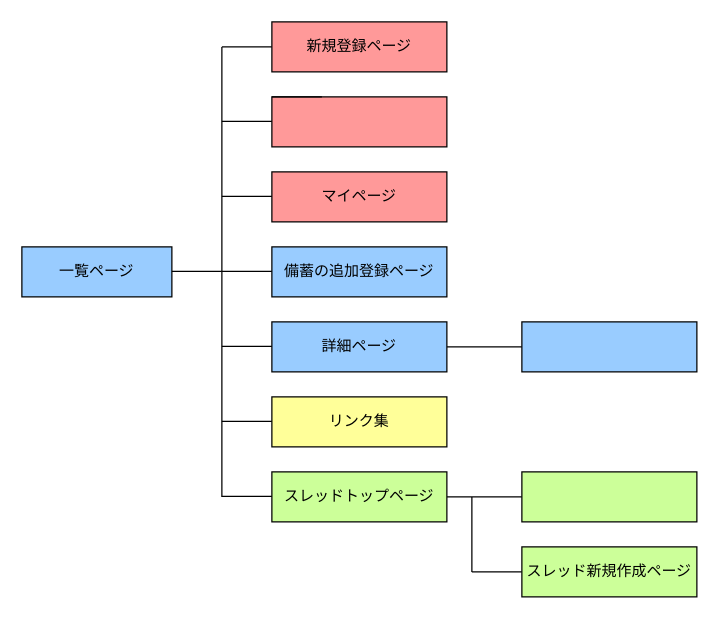
The diagram is 719 pixels wide and 619 high, and some of its shapes have lost their labels. Each missing label, with the centre of its shape:
"お気に入りスレッド一覧ページ" goes at (x=609, y=496).
"ログインページ" goes at (x=359, y=121).
"編集ページ" goes at (x=609, y=346).
